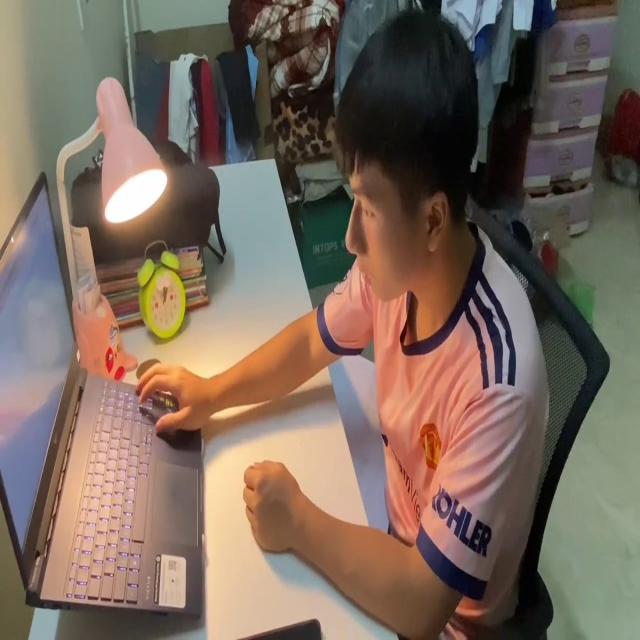book: (327, 345, 391, 553)
laptop: (0, 167, 206, 621)
phone: (234, 610, 322, 640)
student: (136, 2, 548, 640)
